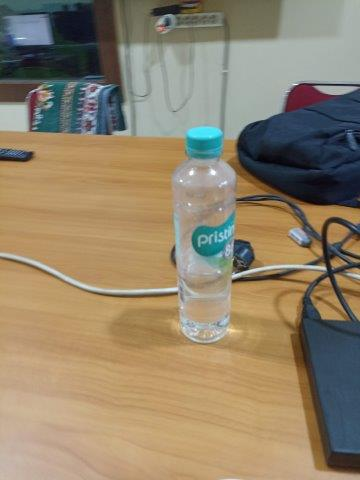botolplastik: (173, 126, 237, 343)
